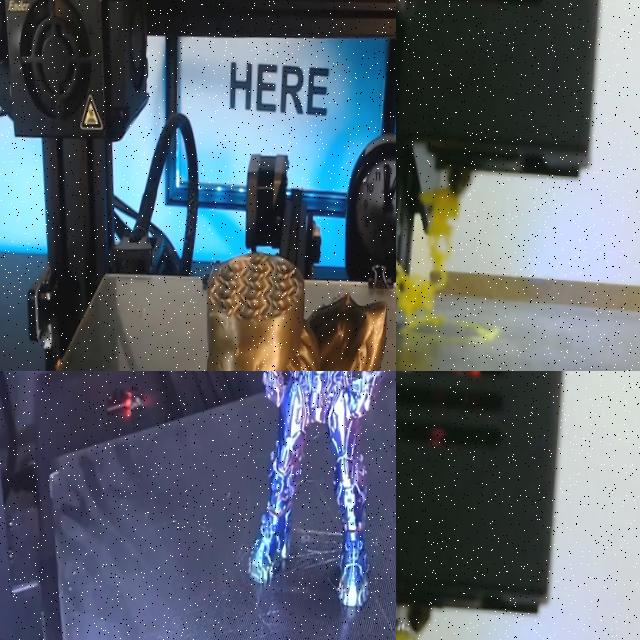spaghetti: (396, 189, 458, 329)
